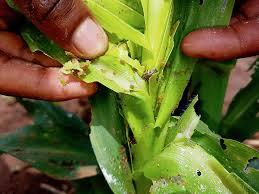fallarmy_worm: (140, 66, 157, 85)
